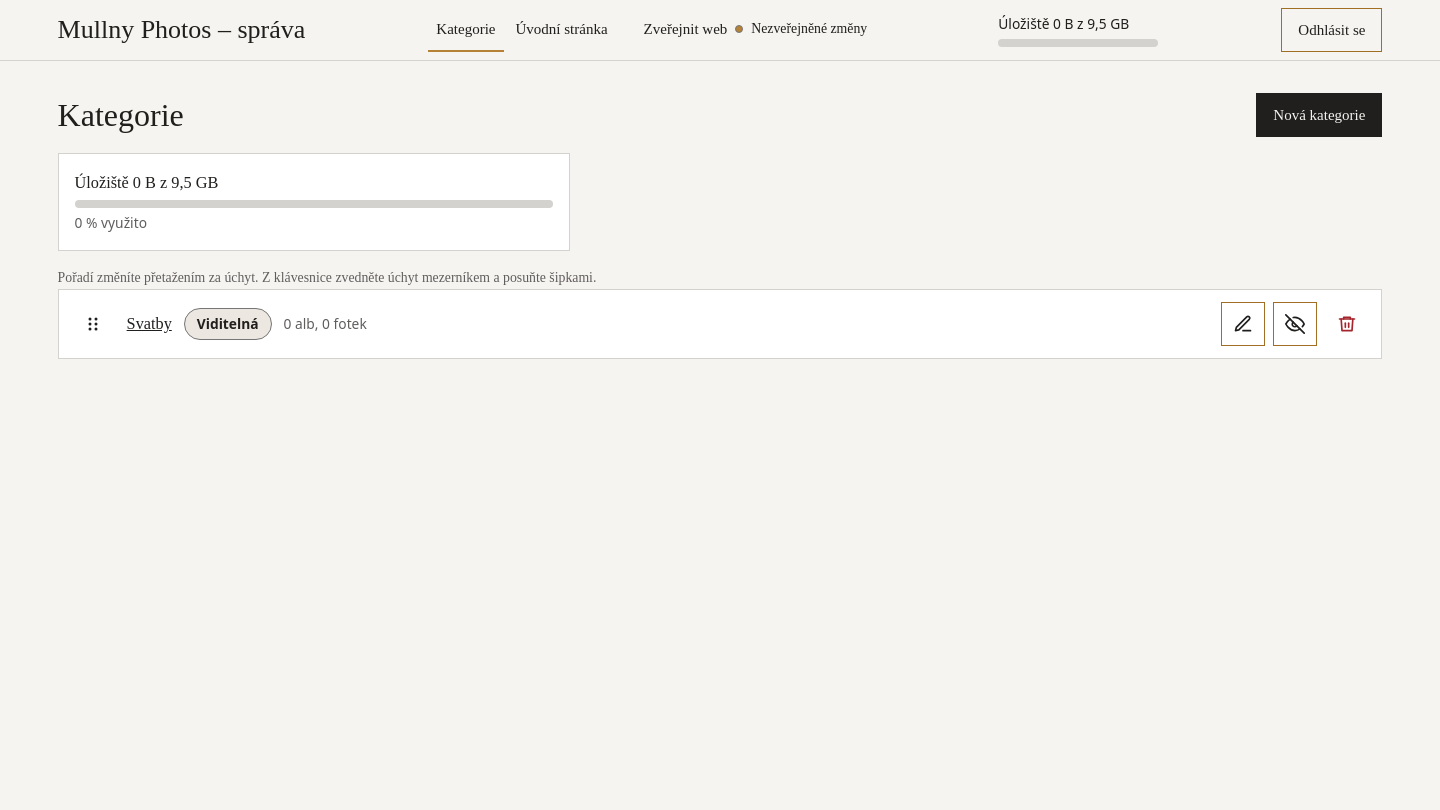
Scenario: create and edit › an empty name is refused with "Vyplňte název." and focus on the field
This screenshot has width=1440, height=810.
Expected: the heading "Kategorie" is shown, top-left (58, 96), bottom-right (184, 134)
Click the button "Nová kategorie" at point(1319, 115), box top-left (1256, 93), bottom-right (1382, 137)
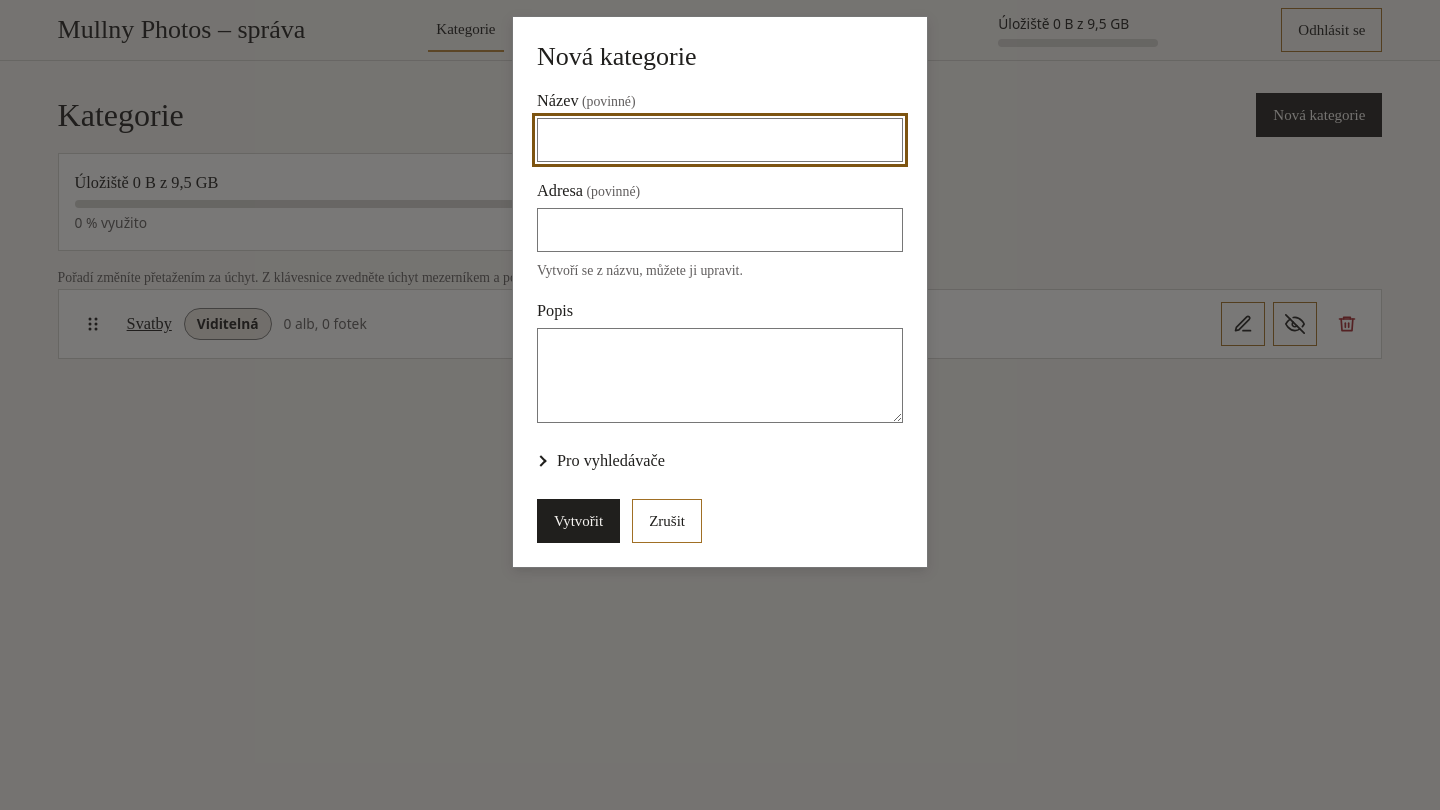
Click the button "Vytvořit" at point(579, 521), box top-left (537, 499), bottom-right (620, 543)
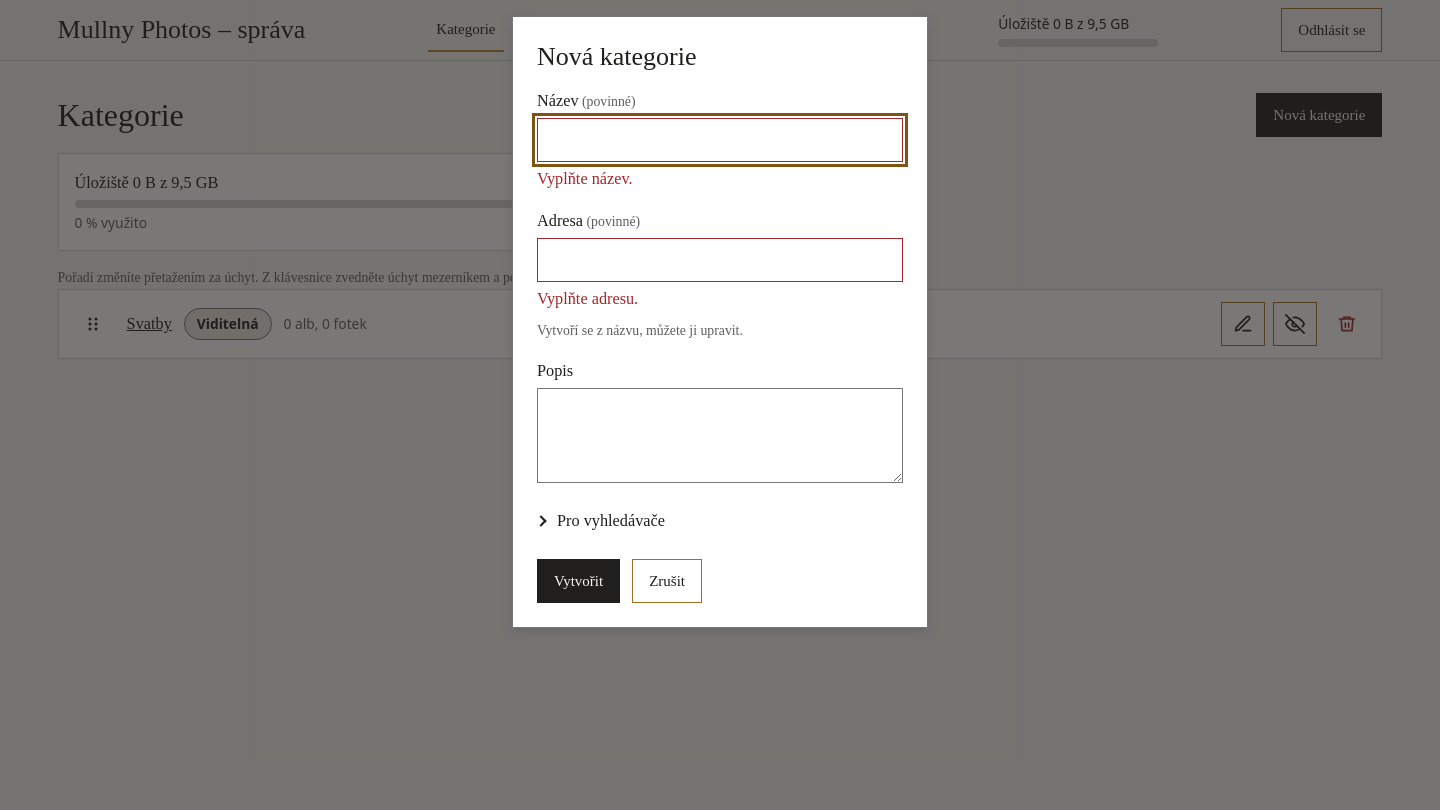
Expected: the text "Vyplňte název." is shown, top-left (537, 169), bottom-right (633, 188)
